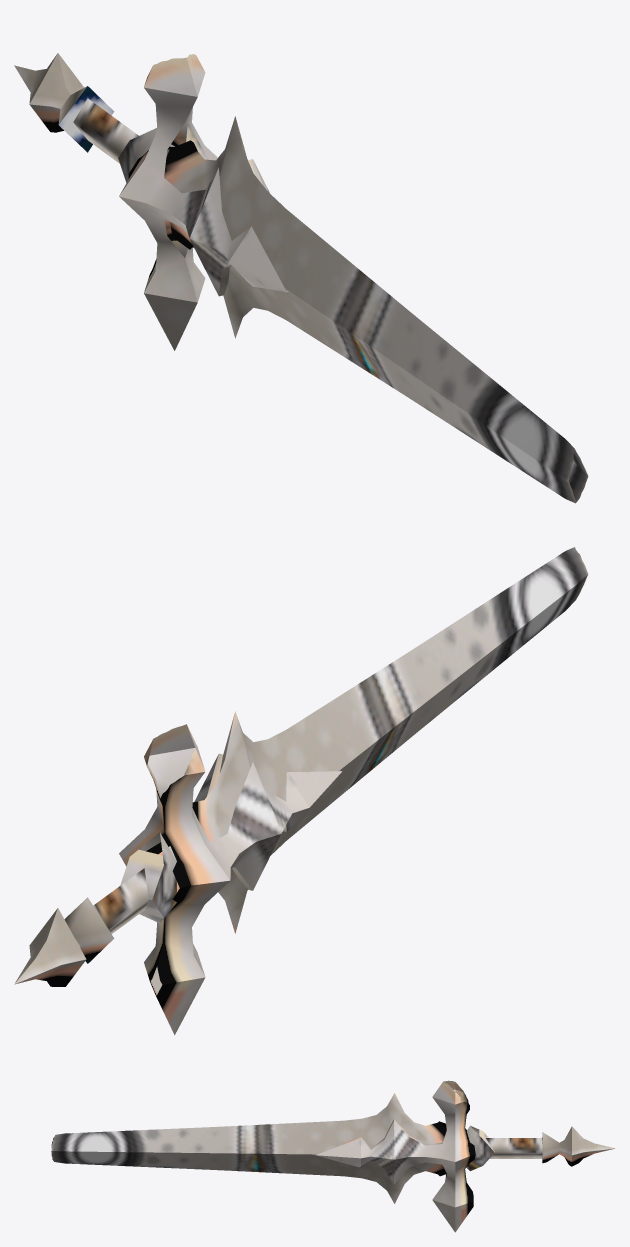
3 views of the same model, one above another, from view 1: azimuth 30°, elevation 25°; view 2: azimuth 150°, elevation 25°; view 3: azimuth 270°, elevation 25° (orthographic). The views are drawn at different scales.
Parts seen in each view (by area): view 1: mSword; view 2: mSword; view 3: mSword.
Boxes of the visible parts, left/top/right/bottom form: mSword: left=14, top=53, right=588, bottom=503; mSword: left=14, top=547, right=588, bottom=1035; mSword: left=51, top=1080, right=615, bottom=1232.
Bounding box in the file's own units: 0.0877 × 0.2531 × 0.8196.
